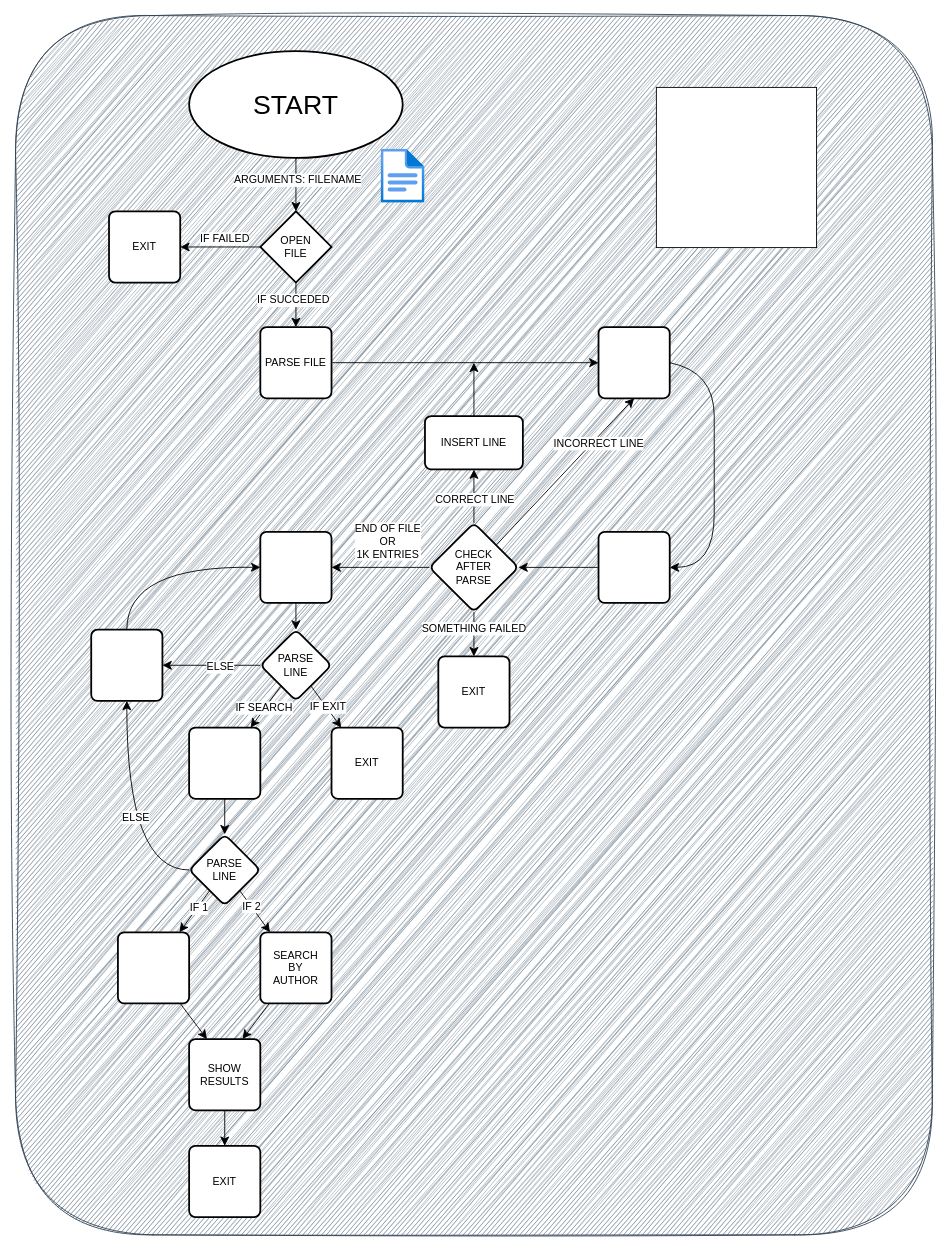
This 948x1250 diagram has some shape labels left out. The box of each missing label's shape, as (x1, y1, x2, y2) in pixels:
MAIN LOOP: (259, 530, 332, 603)
PARSE FILE LINE: (597, 530, 670, 603)
PRINT ERROR MESSAGE: (90, 628, 163, 701)
READ LINE: (597, 326, 670, 399)
SD 04 EX 00: (655, 87, 817, 248)
SEARCH: (188, 726, 261, 799)
SEARCH BY TITLE: (117, 931, 190, 1004)
